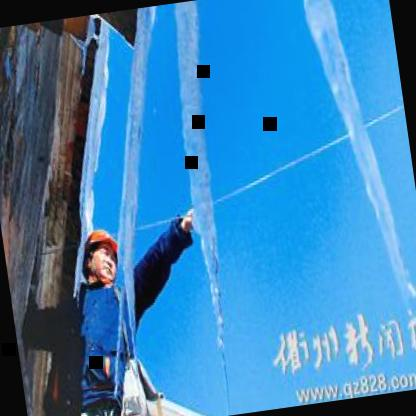helmet: (78, 218, 126, 286)
